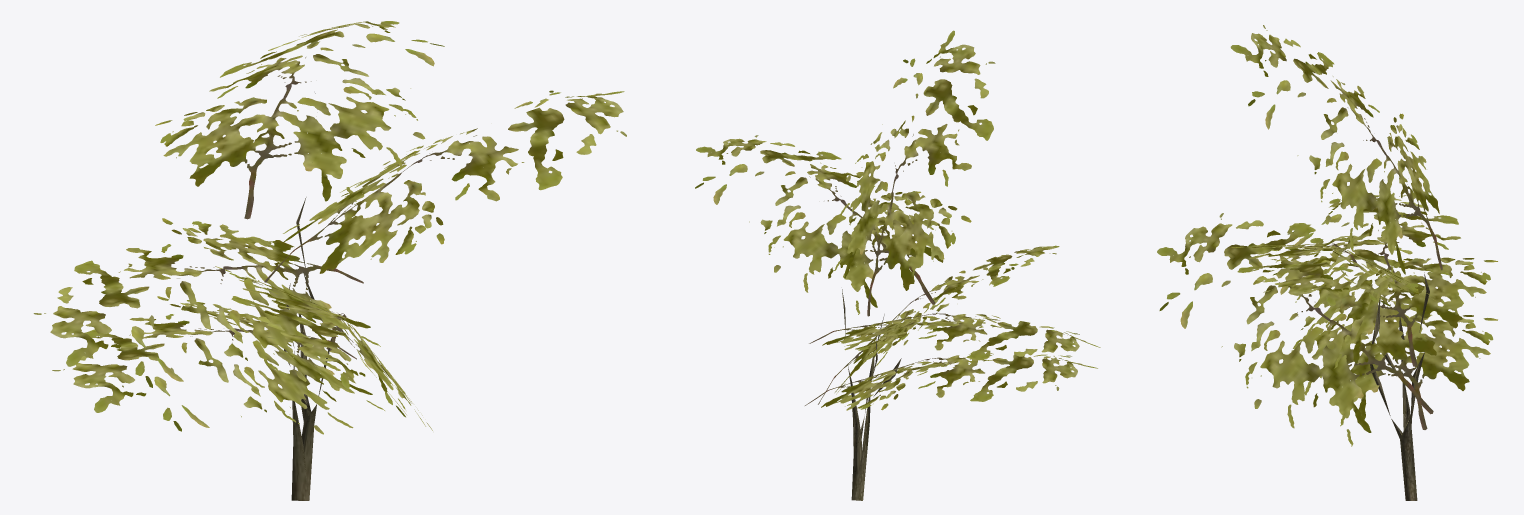
3 renders of one model, left to right at view 1: azimuth 30°, elevation 25°; view 2: azimuth 150°, elevation 25°; view 3: azimuth 270°, elevation 25°, orthographic. The views are drawn at different scales.
Parts seen in each view (by area): view 1: Treesmall; view 2: Treesmall; view 3: Treesmall.
Part boxes in pixels (x1,y1,x2,y2): Treesmall: (33,21,626,500); Treesmall: (695,30,1100,500); Treesmall: (1157,25,1497,500).
Bounding box in the file's own units: 8.88 × 8.16 × 5.83.
1 material, 1 textured.
